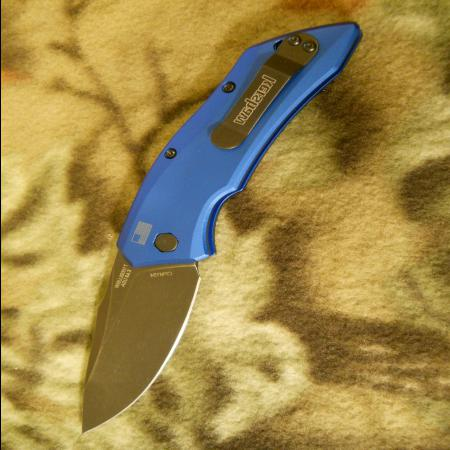long weapon: (74, 242, 200, 442)
